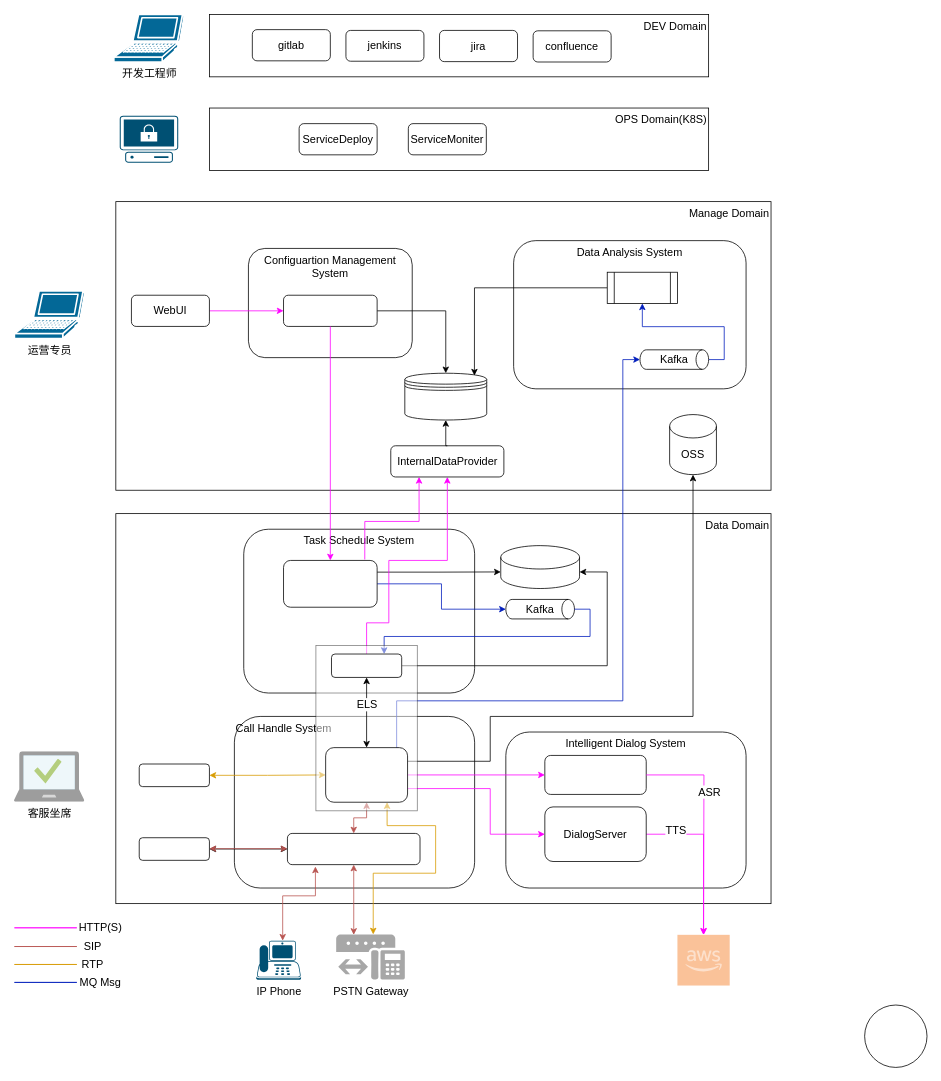
Image size: 941x1081. Some labels were removed from this diagram. The centre of each missing label's shape, as x and y in pixels:
AsrProxy: the point at 595,774
Cloud Services: the point at 703,960
Flink: the point at 641,287
FreeSWITCH+: the point at 366,774
JsSip: the point at 173,848
MySQL: the point at 445,396
OpenSIPS: the point at 353,849
Redis: the point at 540,567
TaskAgent: the point at 366,665
TaskController: the point at 330,583
WebRTC: the point at 173,775
WebServer: the point at 330,310
运维工程师: the point at 148,138
